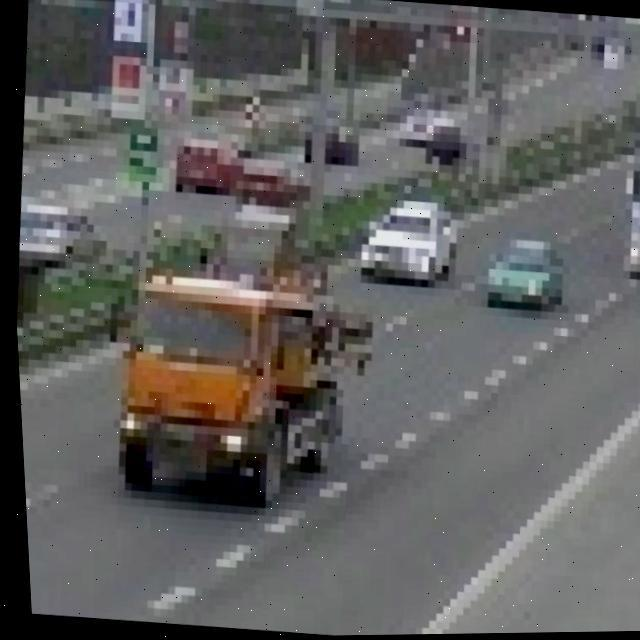truck: (82, 244, 360, 508)
